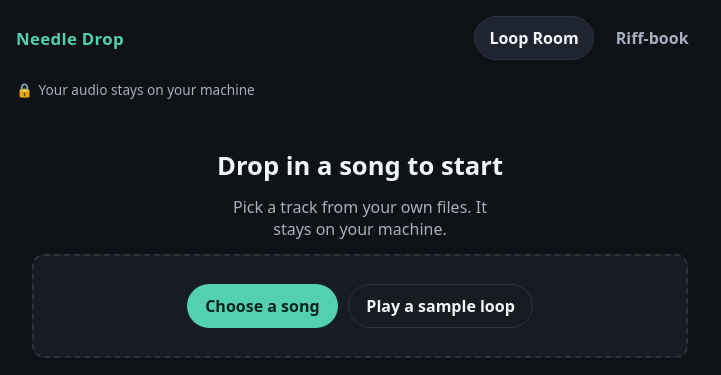
it: App shell › keeps the badge off when the store is empty
Click the button "Riff-book".
click(652, 38)  # box [600,16,704,60]
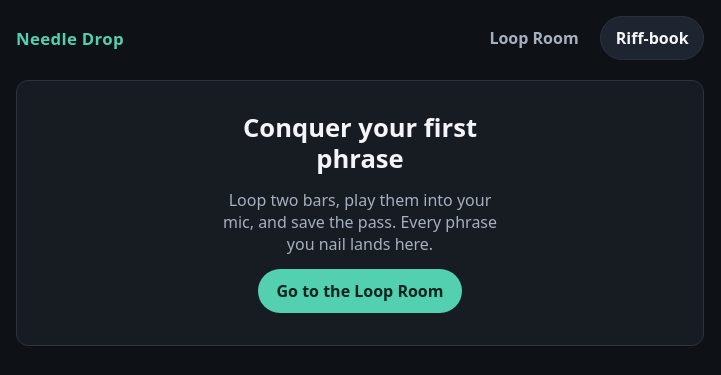
Expected: the heading "Conquer your first phrase" is shown, [243,110,477,176]
